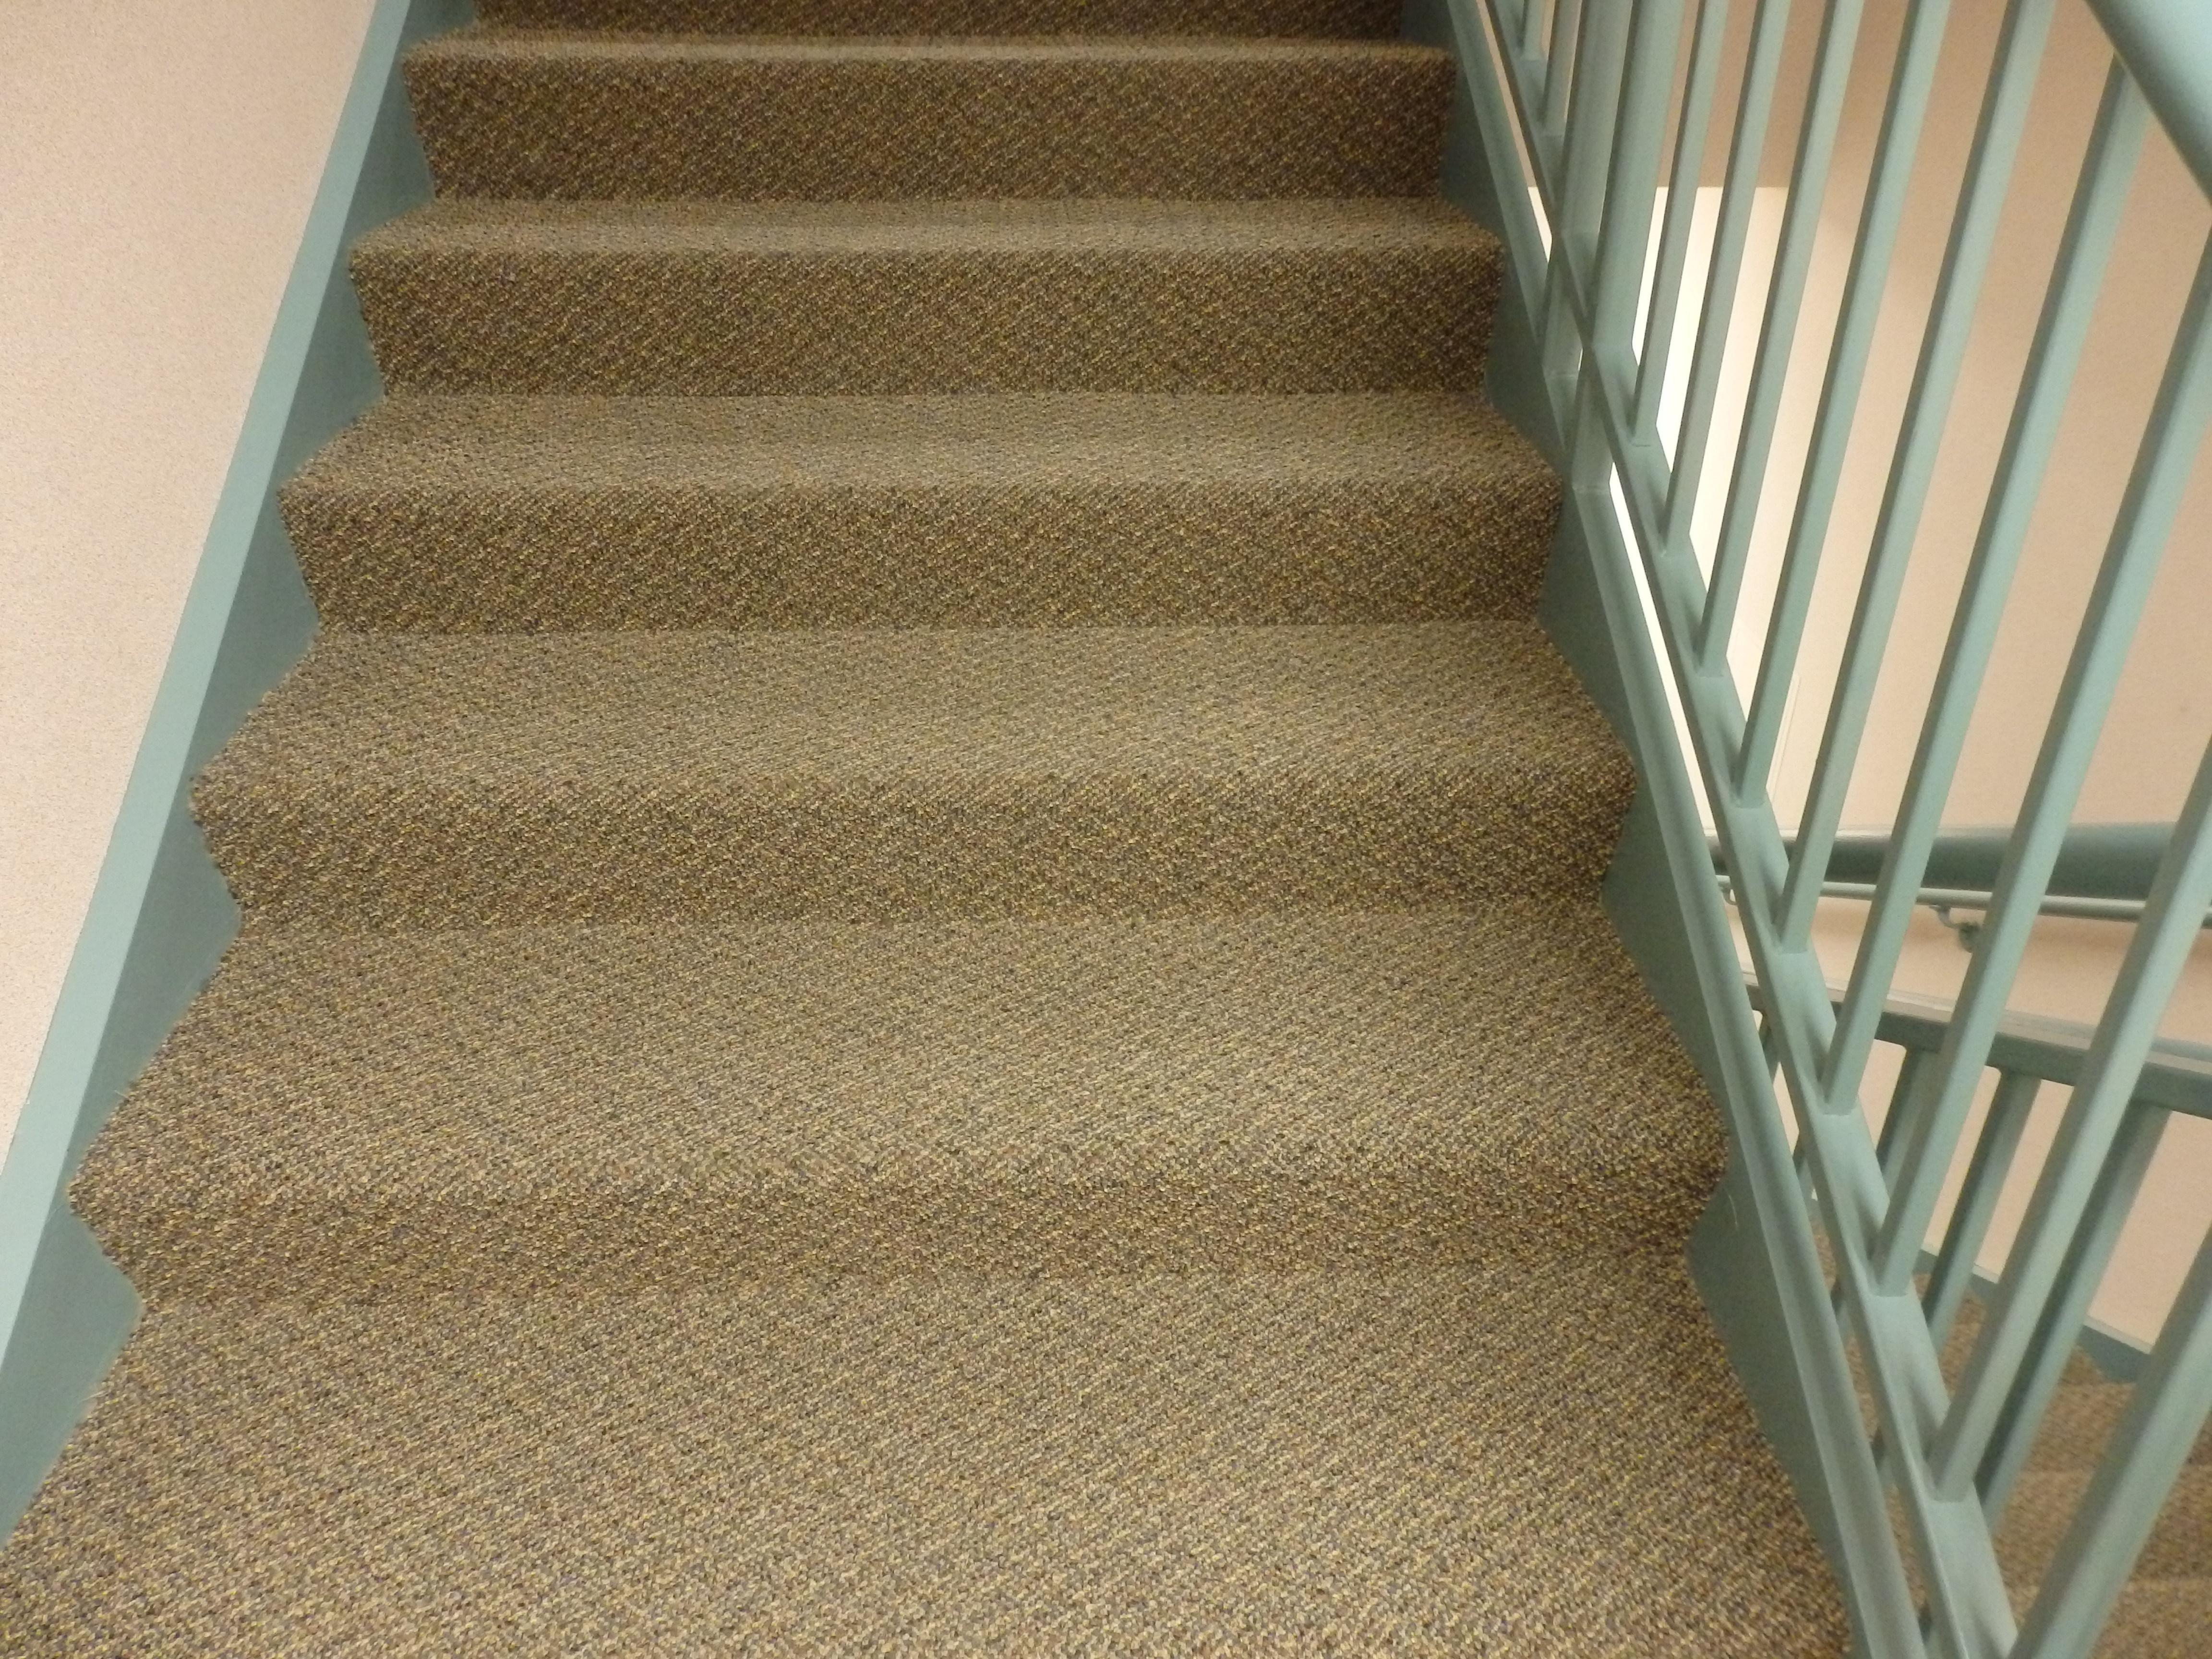stairs_up: (176, 21, 1648, 1425)
